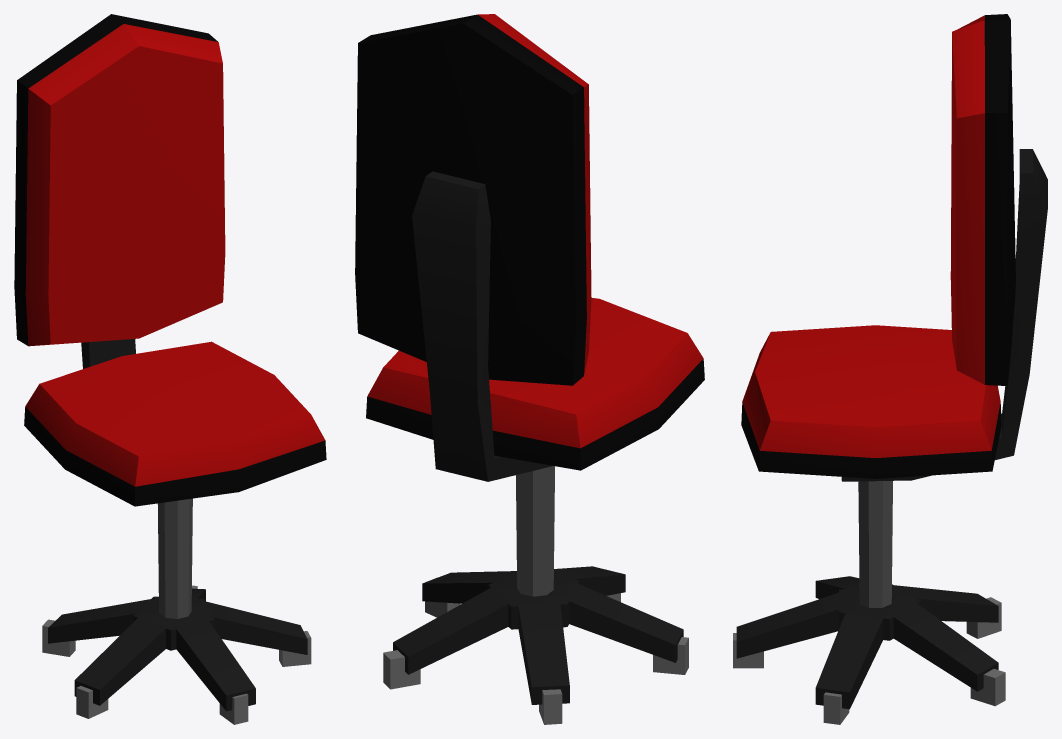
Rendered from Office_chair.fbx.
The picture shows the model from 3 angles, left to right: view 1: azimuth 30°, elevation 25°; view 2: azimuth 150°, elevation 25°; view 3: azimuth 270°, elevation 25°; orthographic projection. The views are drawn at different scales.
Visible parts, largest first — view 1: Chair.001; view 2: Chair.001; view 3: Chair.001.
Boxes of the visible parts, bbox=[...] form: Chair.001: bbox=[14, 14, 326, 724]; Chair.001: bbox=[355, 14, 704, 724]; Chair.001: bbox=[733, 14, 1047, 724].
Bounding box in the file's own units: 811 × 2050 × 905.
